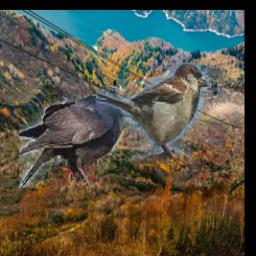Crow: (19, 95, 138, 189)
Sparrow: (96, 63, 209, 165)
